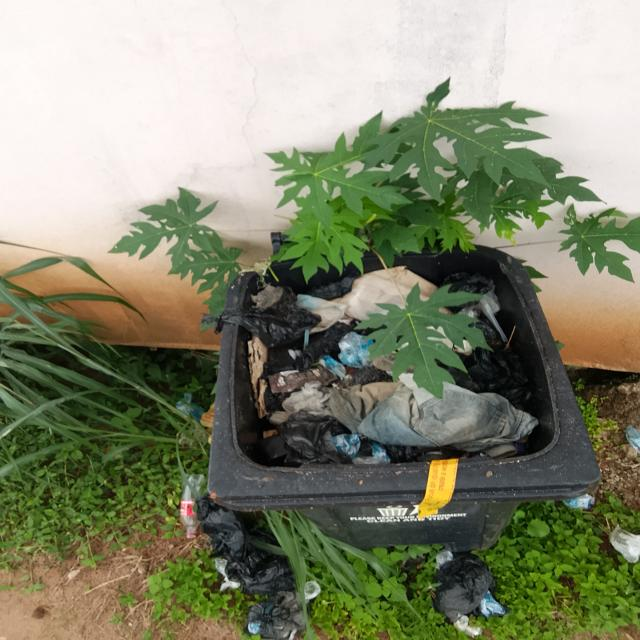full: (220, 238, 578, 493)
